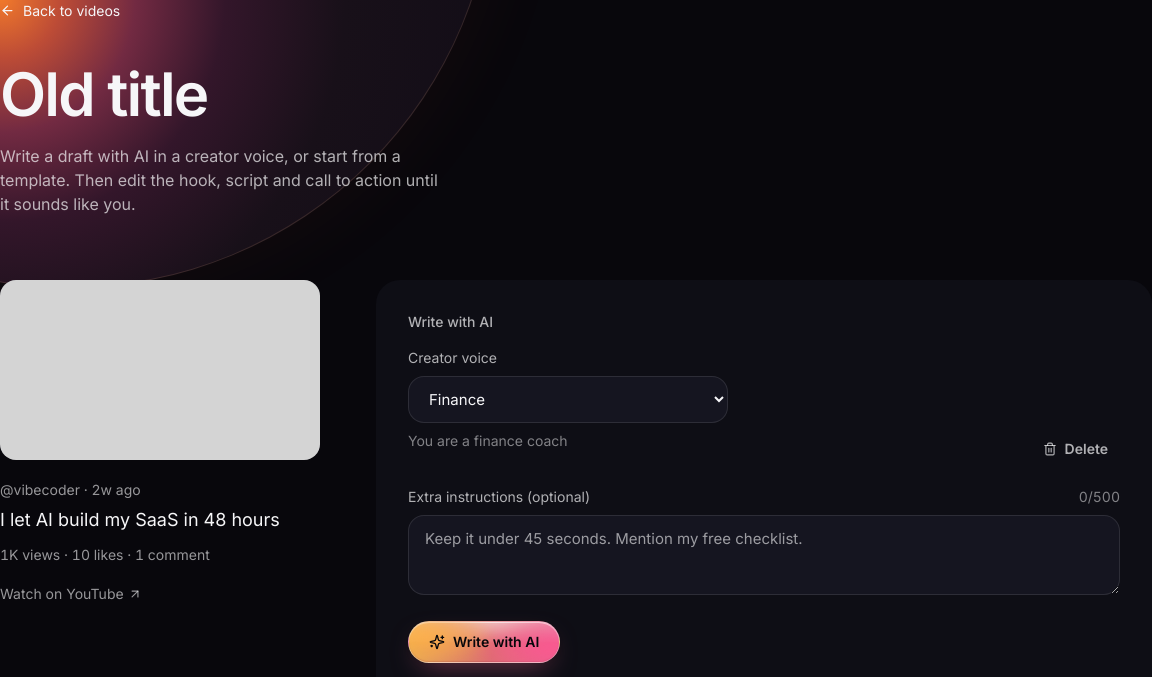
it: Delete a saved voice › deletes after confirming and falls back to Custom voice with the text
Later steps or results of the test are not shown.
Expected: the heading "Write with AI" is shown, [408, 313, 493, 330]
Expected: the dropdown labelled "Creator voice" shows "Finance", [408, 376, 728, 423]
Click the button with aria-label "Delete saved voice Finance" at (1075, 449), box [1031, 431, 1120, 467]
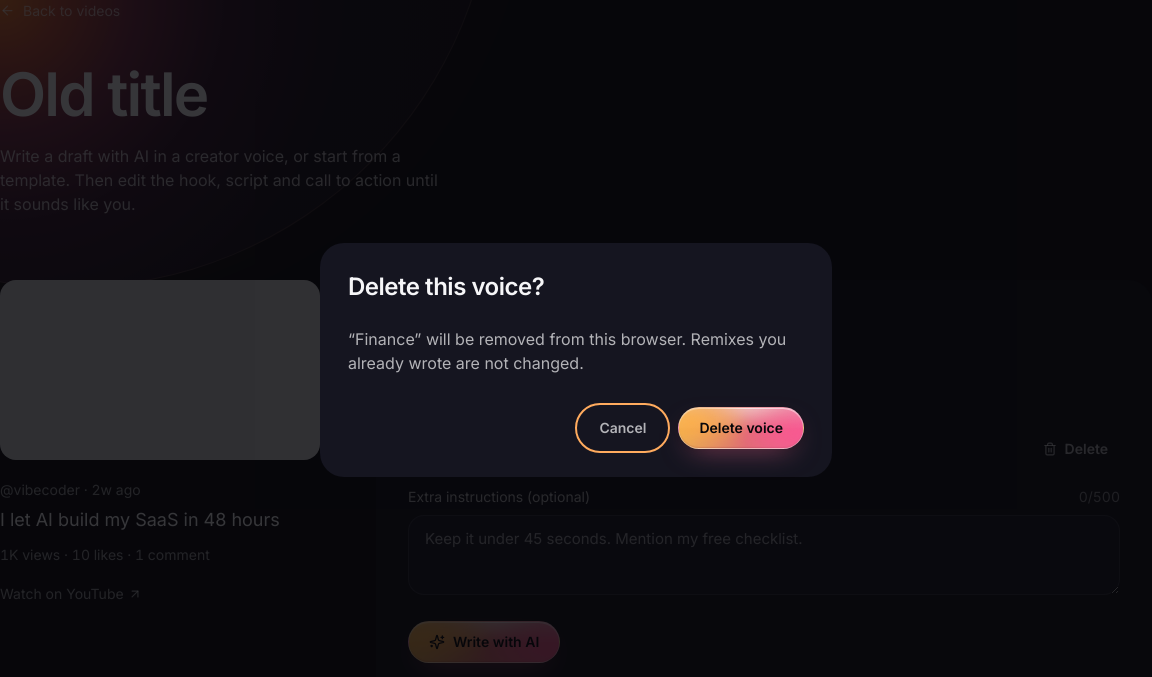
Click the button "Delete voice" at (741, 428), box [678, 407, 804, 449]
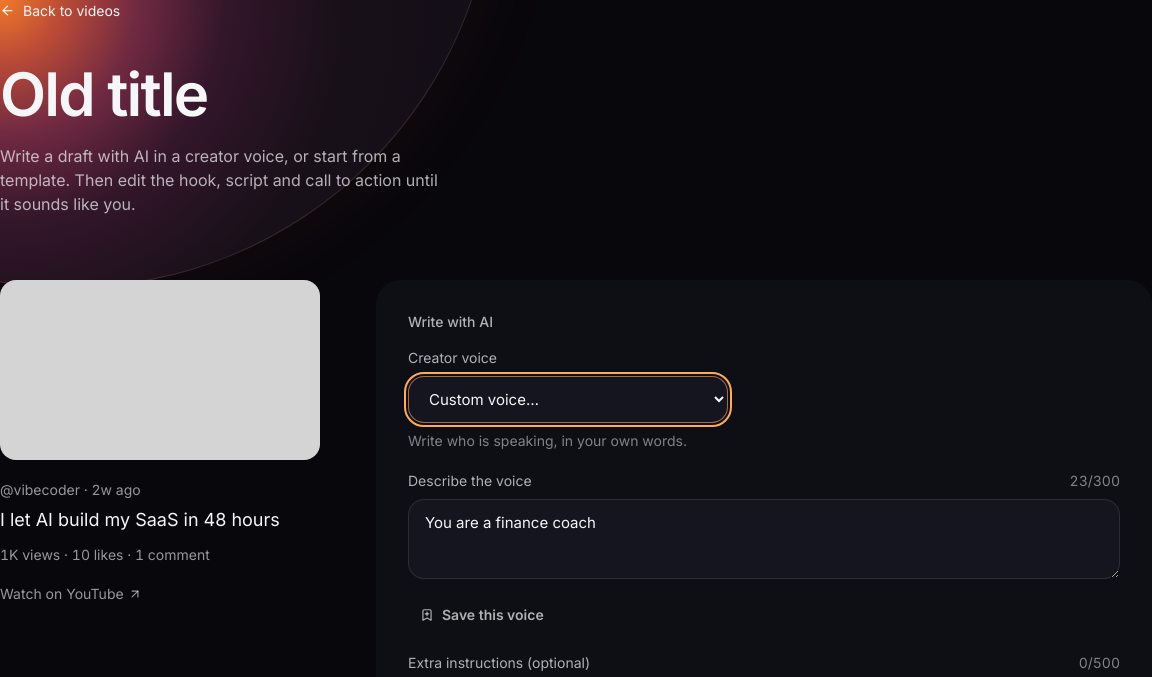
Now the dialog is gone
Now the dropdown labelled "Creator voice" shows "Custom voice…", box [408, 376, 728, 423]
Now the text box labelled "Describe the voice" holds "You are a finance coach", box [408, 499, 1120, 579]
